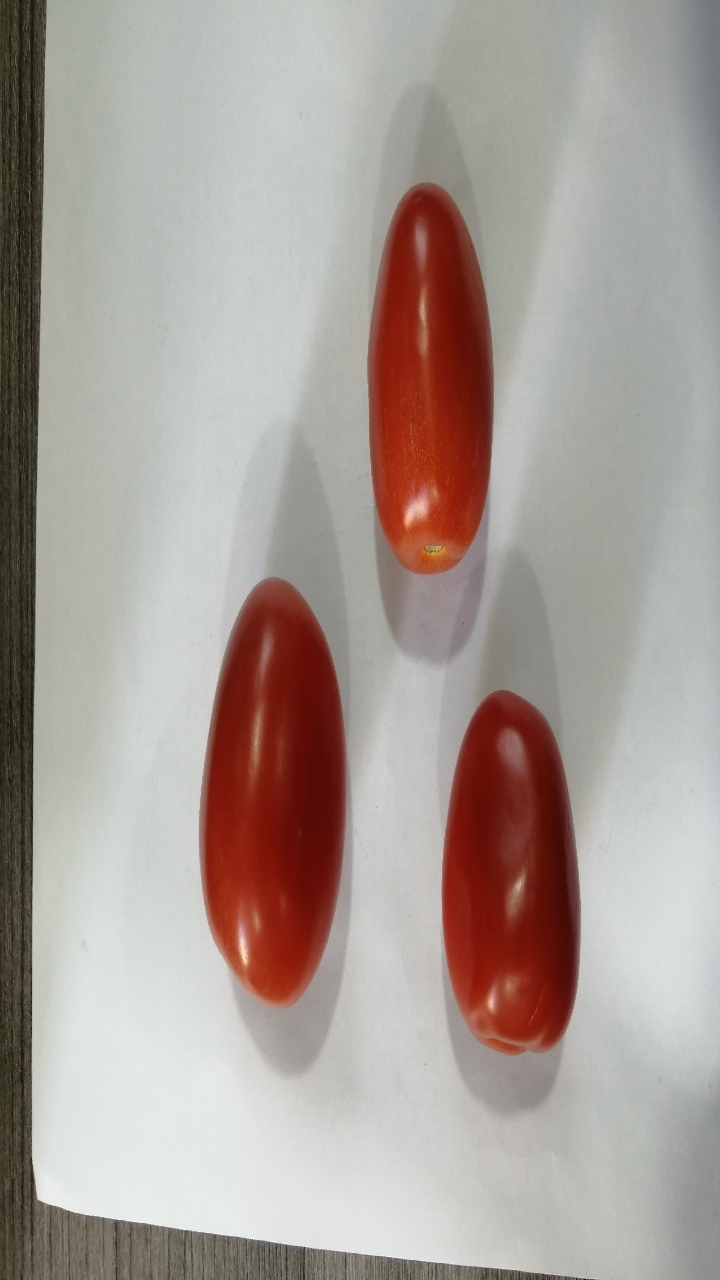tomateRojo: (140, 566, 352, 1031), (346, 163, 528, 609), (408, 671, 598, 1083)
